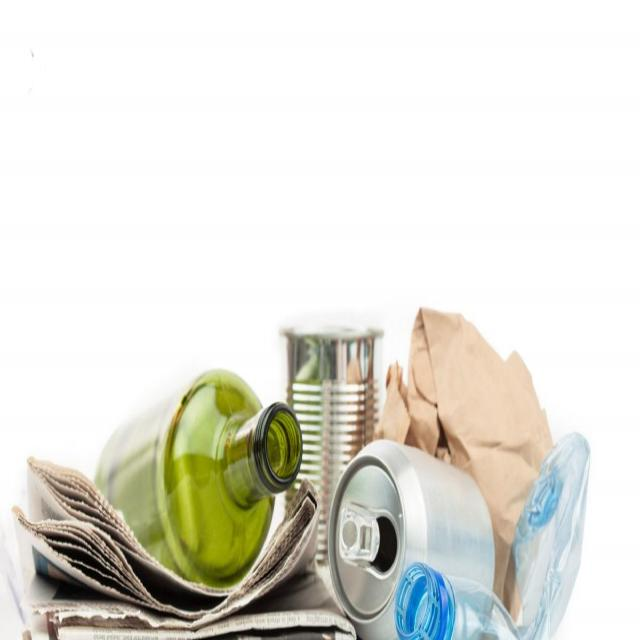metal: (331, 462, 475, 565), (295, 329, 374, 445)
paper: (407, 304, 546, 458), (19, 472, 119, 620)
plastic: (399, 573, 577, 640)
